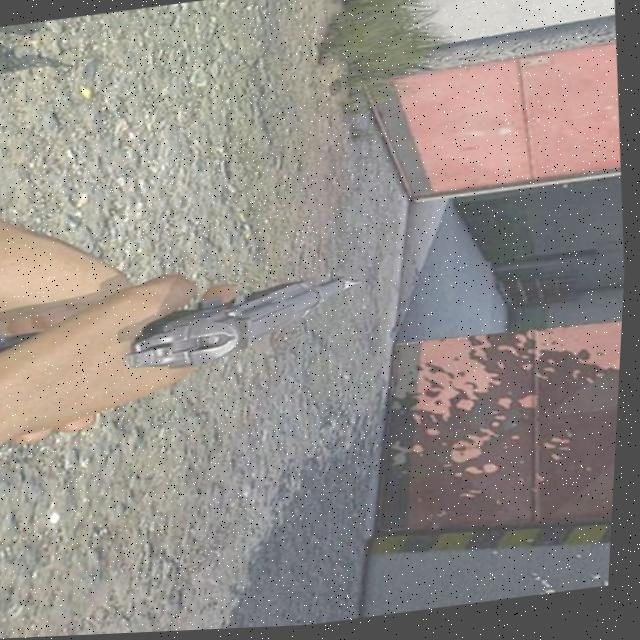pistol: (118, 274, 368, 379)
